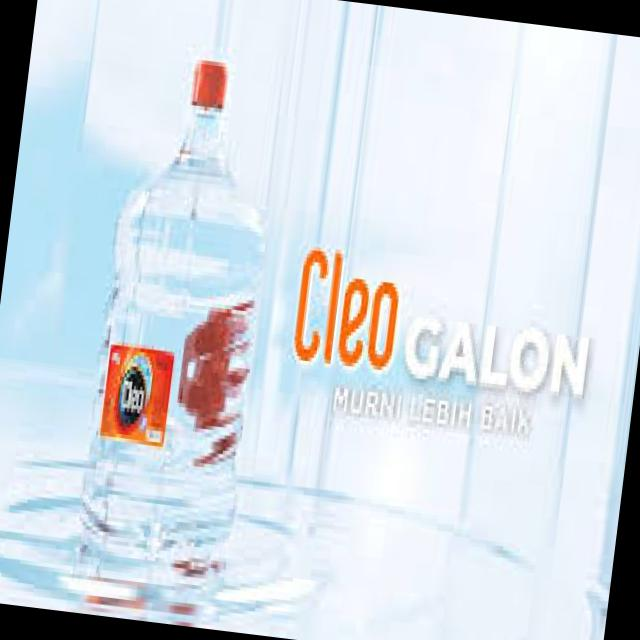Galon: (70, 44, 289, 570)
